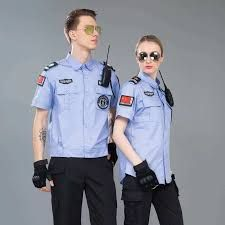uniform: (47, 60, 113, 215), (118, 69, 182, 218)
